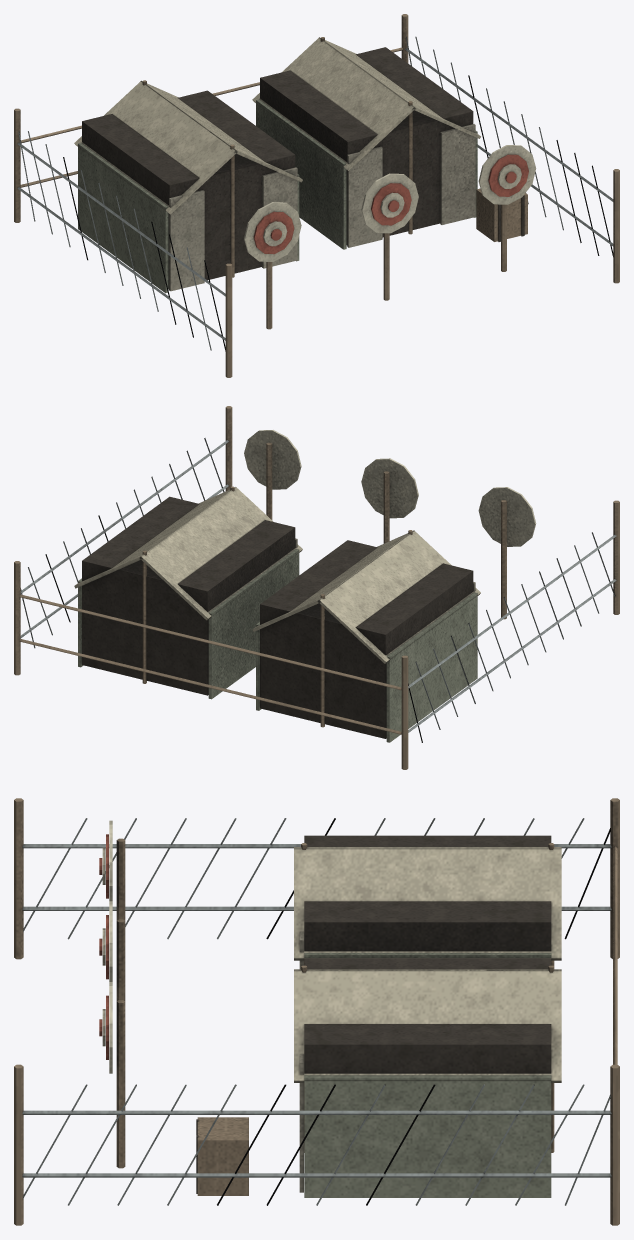
Rendered from ArmyCenter.fbx.
3 views of the same model, one above another, from view 1: azimuth 30°, elevation 25°; view 2: azimuth 150°, elevation 25°; view 3: azimuth 270°, elevation 25° (orthographic). The views are drawn at different scales.
Parts seen in each view (by area): view 1: ArmyCenter; view 2: ArmyCenter; view 3: ArmyCenter.
Part boxes in pixels (<box>): ArmyCenter: <box>14,14,619,377</box>; ArmyCenter: <box>14,406,619,769</box>; ArmyCenter: <box>14,798,619,1225</box>.
Size of the model in its own units: 3.75 by 1.2 by 3.56.
Materials: 1 (1 with a texture image).
